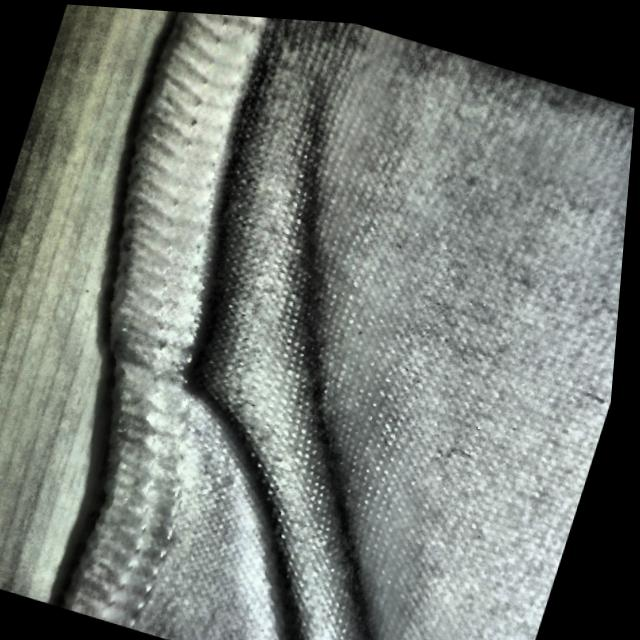seam: (57, 211, 389, 531)
